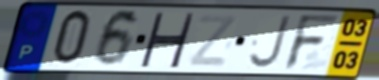0: (50, 7, 95, 69)
6: (90, 7, 143, 71)
F: (281, 13, 343, 72)
H: (137, 11, 197, 70)
J: (246, 14, 293, 71)
Z: (185, 14, 240, 69)
